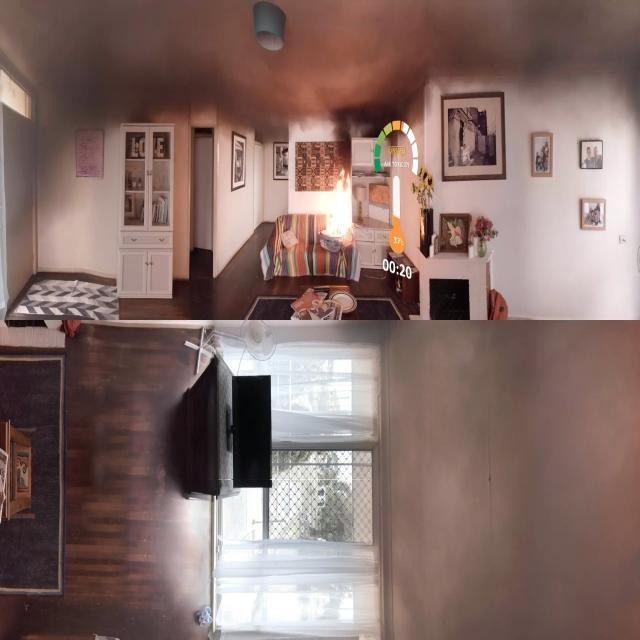Fire: (306, 132, 371, 257)
